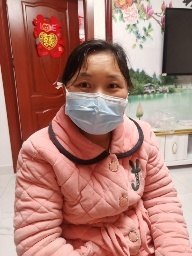correctlyWear: (61, 64, 130, 135)
